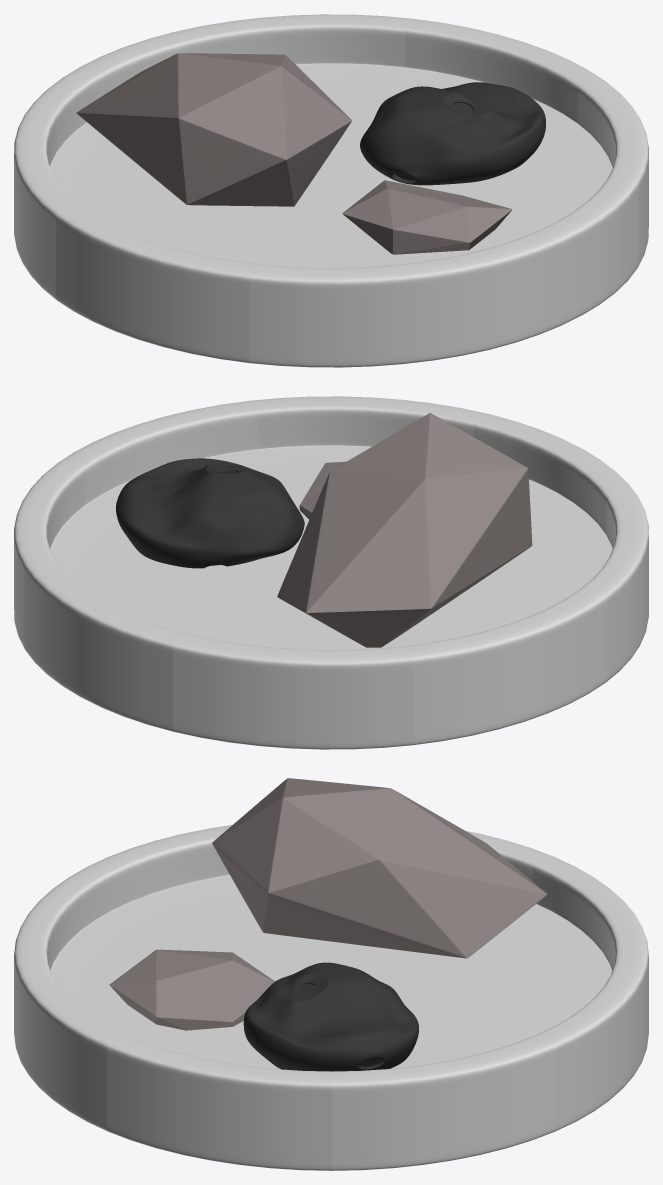
File: RockSample.gltf
The picture shows the model from 3 angles, top to bottom: view 1: azimuth 30°, elevation 25°; view 2: azimuth 150°, elevation 25°; view 3: azimuth 270°, elevation 25°; orthographic projection.
Visible parts, largest first — view 1: pCylinder3; view 2: pCylinder3; view 3: pCylinder3.
Boxes of the visible parts, left/top/right/bottom form: pCylinder3: left=14, top=14, right=648, bottom=367; pCylinder3: left=14, top=396, right=648, bottom=749; pCylinder3: left=14, top=778, right=648, bottom=1170.
Size of the model in its own units: 0.0553 by 0.0196 by 0.0553.
Materials: 3 (2 with a texture image).
